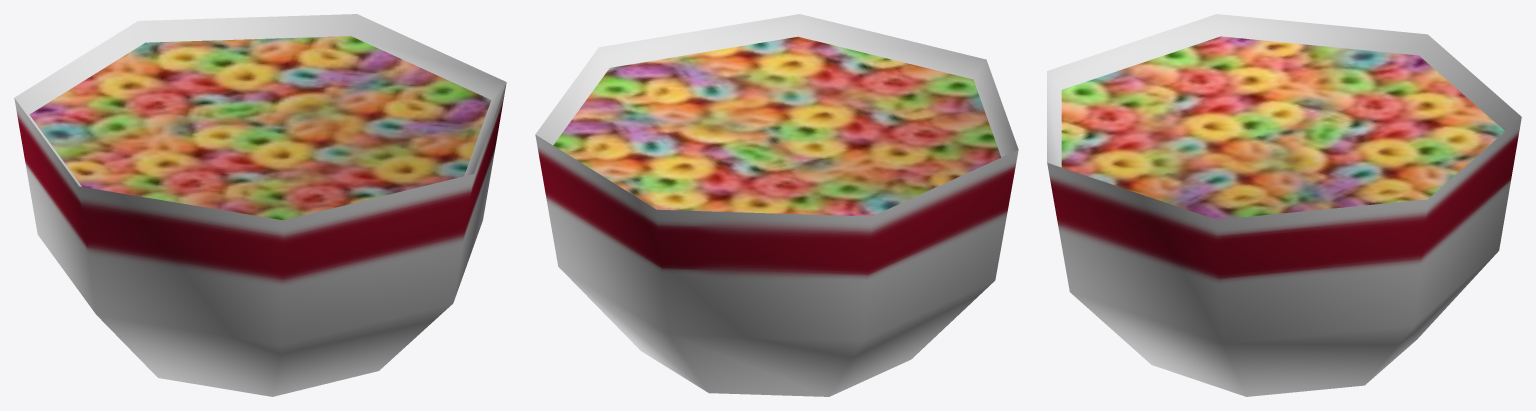
File: Cereal_bowl-col.glb
The picture shows the model from 3 angles, left to right: view 1: azimuth 30°, elevation 25°; view 2: azimuth 150°, elevation 25°; view 3: azimuth 270°, elevation 25°; orthographic projection.
Parts seen in each view (by area): view 1: Cereal_bowl-col; view 2: Cereal_bowl-col; view 3: Cereal_bowl-col.
Boxes of the visible parts, left/top/right/bottom form: Cereal_bowl-col: left=14, top=14, right=506, bottom=396; Cereal_bowl-col: left=535, top=14, right=1018, bottom=396; Cereal_bowl-col: left=1047, top=14, right=1521, bottom=396.
Bounding box in the file's own units: 0.2909 × 0.1467 × 0.2836.
Materials: 1 (1 with a texture image).
